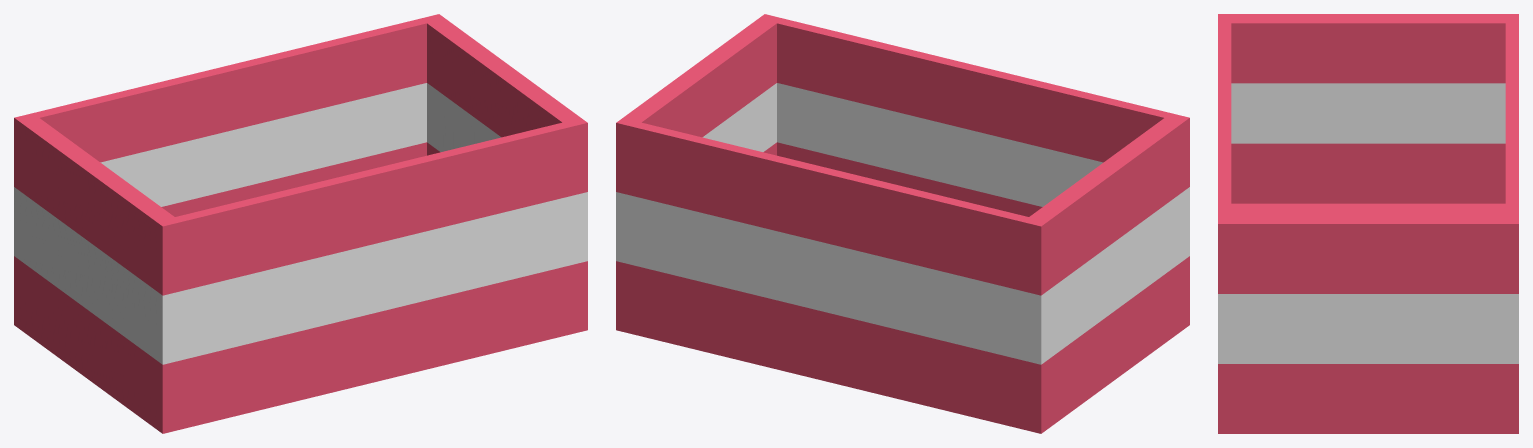
The model's file is Giftbox3-1.fbx.
3 renders of one model, left to right at view 1: azimuth 30°, elevation 25°; view 2: azimuth 150°, elevation 25°; view 3: azimuth 270°, elevation 25°, orthographic.
Parts seen in each view (by area): view 1: Box021; view 2: Box021; view 3: Box021.
Boxes of the visible parts, x1,y1,x2,y2 form: Box021: (14, 14, 587, 433); Box021: (616, 14, 1189, 433); Box021: (1218, 14, 1518, 433).
Bounding box in the file's own units: 18.22 × 8.5 × 11.03.
